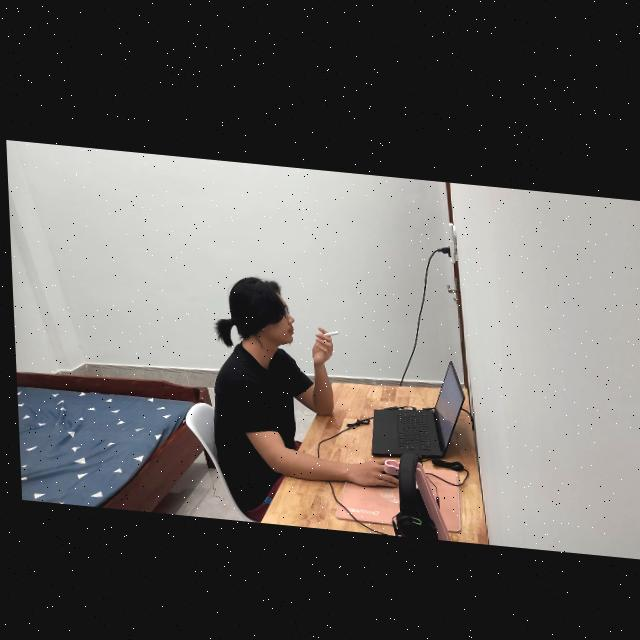cigarette: (314, 322, 337, 333)
